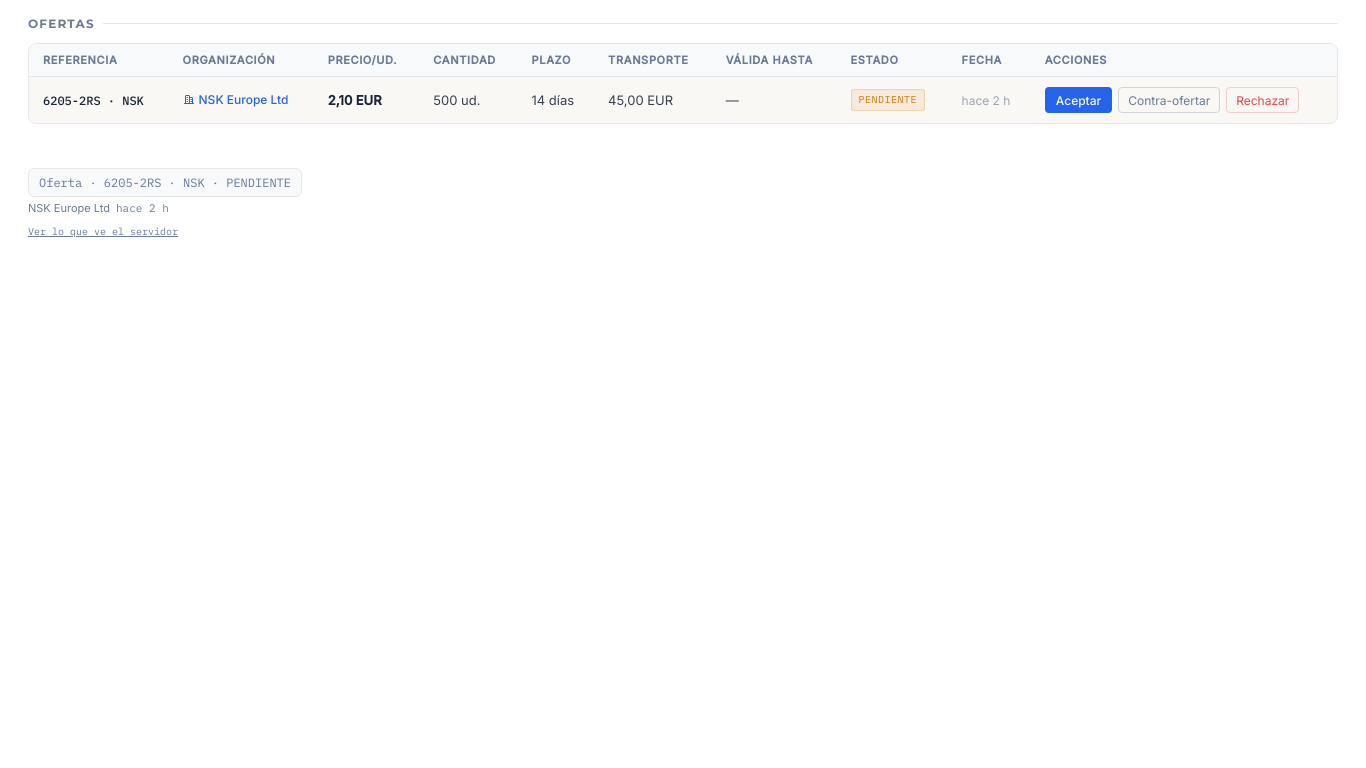
Scenario: ⚠ quién puede decidir una oferta › con contenido descifrado, `Contra-ofertar` abre el formulario prerelleno
The image size is (1366, 768).
Click the button "Contra-ofertar" at (1169, 100), box [1118,87,1220,113]
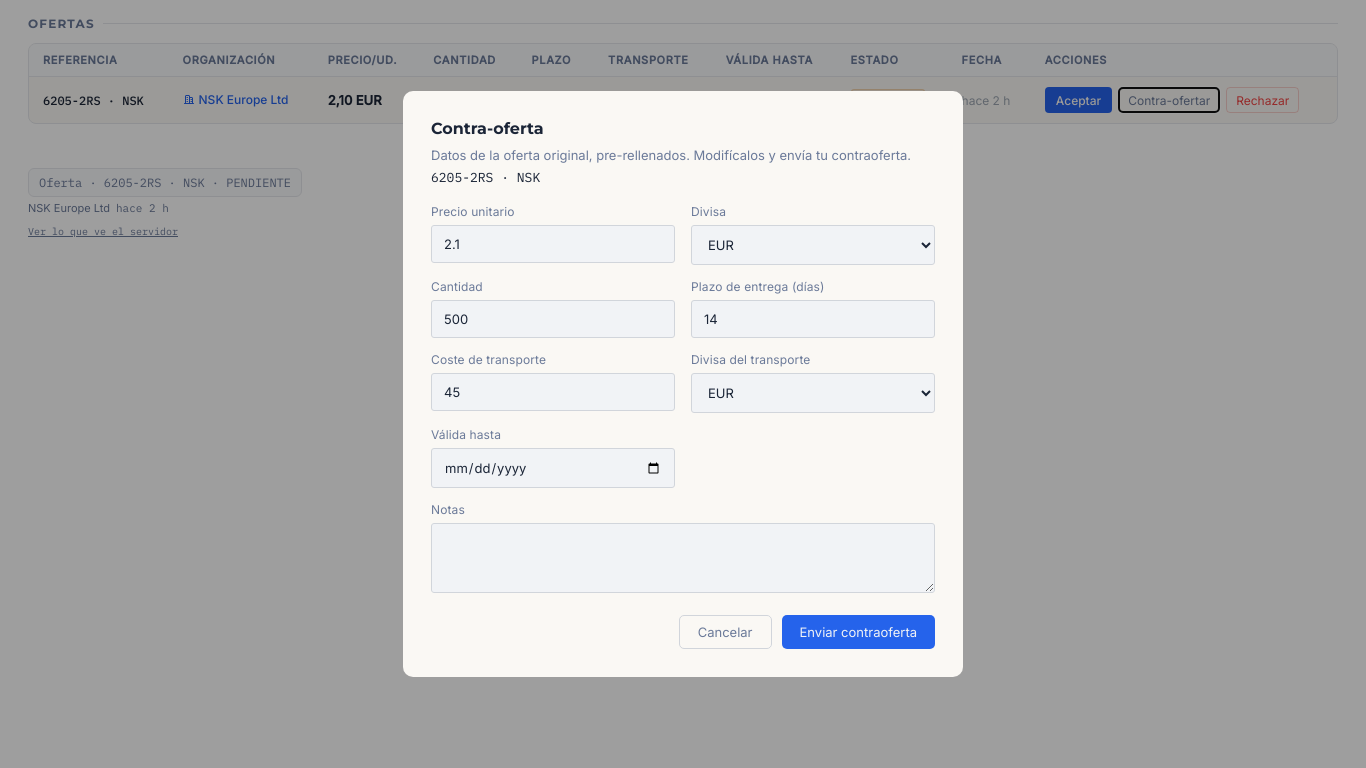
Now the dialog "Contra-oferta" is shown, box [403,91,963,677]
Now the field labelled "Precio unitario" holds "2.1", box [431,225,675,263]
Now the field labelled "Cantidad" holds "500", box [431,300,675,338]
